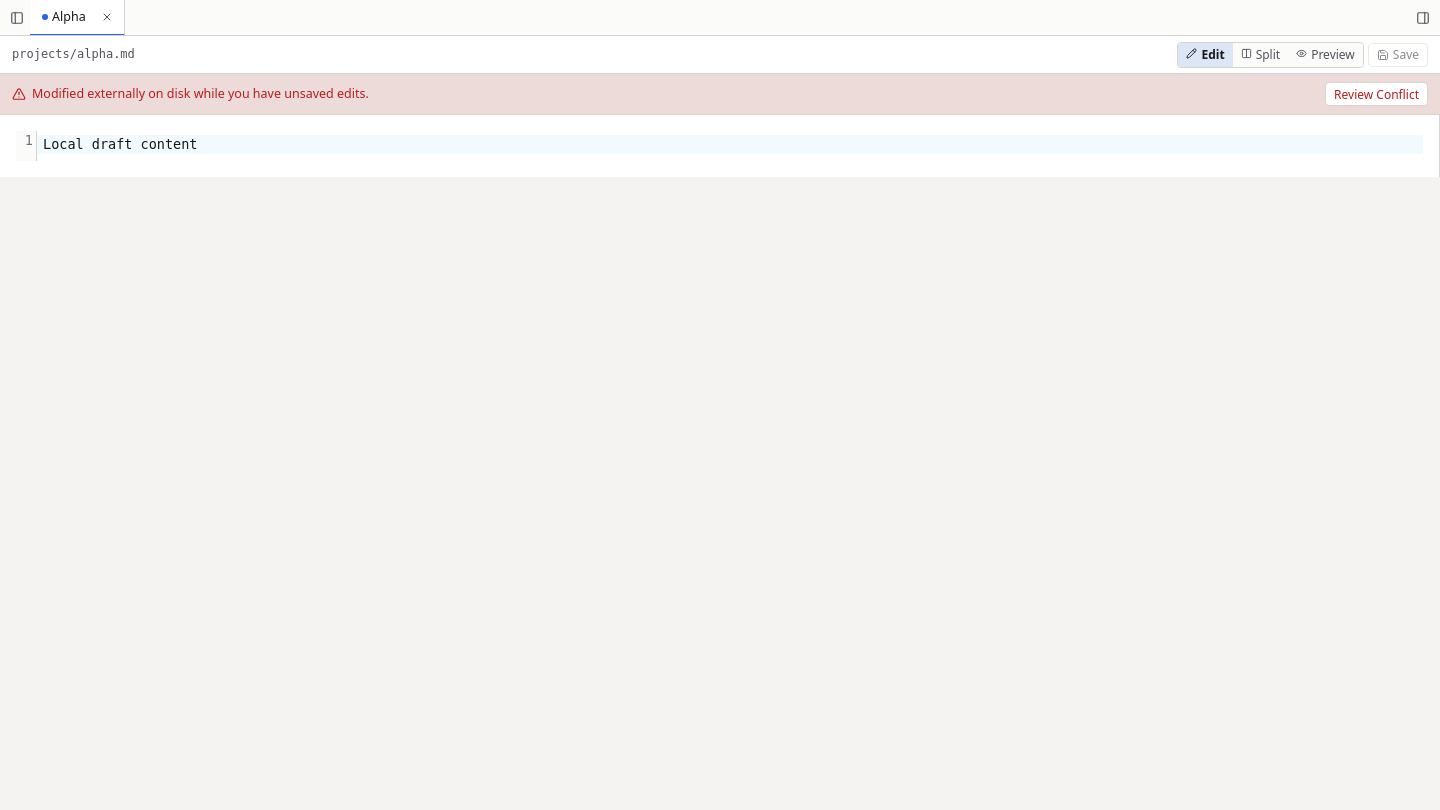
Test: EditorWorkspace editing, conflicts, move preview, and close protection › opens Conflict Resolution modal and invokes Save Copy / Reload / Overwrite actions
Later steps or results of the test are not shown.
Click the button "Review Conflict" at (1377, 94), box x1=1325 y1=82 x2=1428 y2=106
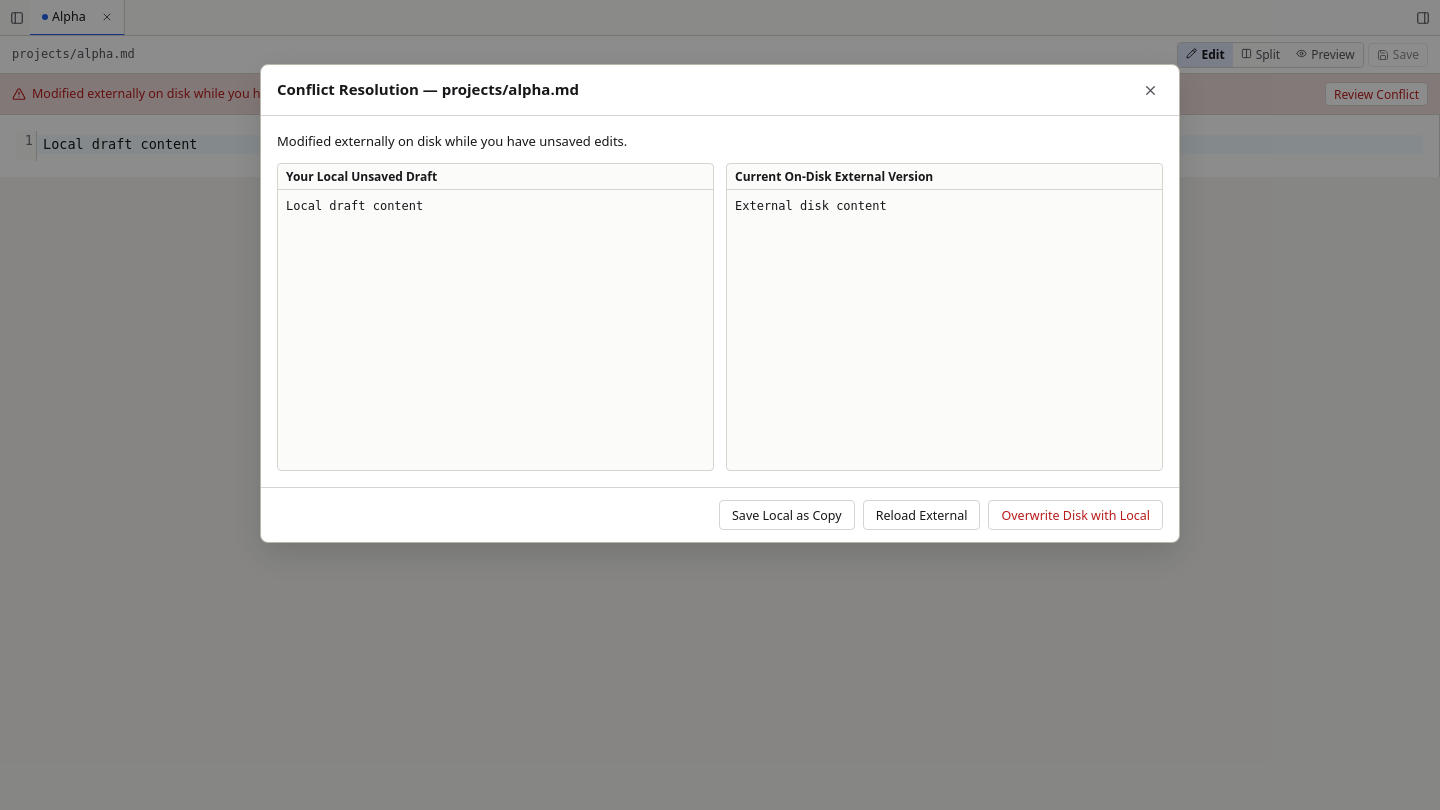
Expected: the text "Local draft content" is shown, x1=286 y1=199 x2=423 y2=213
Expected: the text "External disk content" is shown, x1=735 y1=199 x2=887 y2=213
